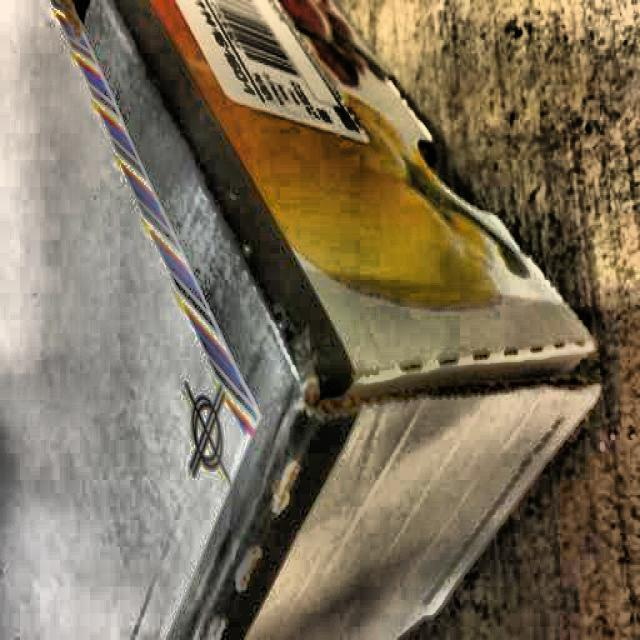cardboard: (0, 0, 602, 638)
